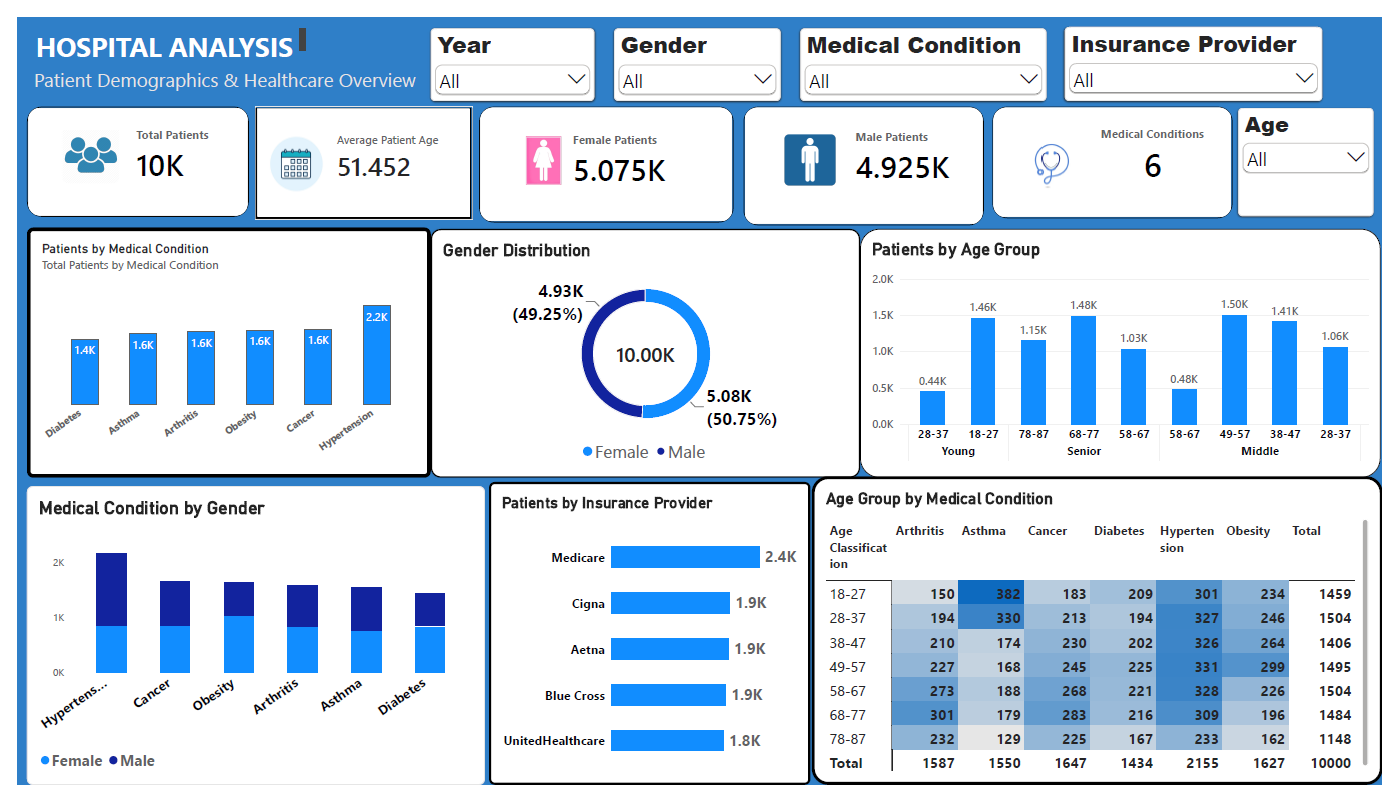

What the dashboard file says about the page in this screenshot:
{"tool":"powerbi","page":{"name":"Hospital Overview & Patient Demographics","canvas":[1920,1080],"ordinal":1},"visuals":[{"type":"textbox","box":[26,16,380,52],"z":0},{"type":"textbox","box":[24,70,605.1,96.7],"z":1000},{"type":"cardVisual","fields":{"Data":["Healthcare_Data_v1__1.Average Patient Age"]},"box":[334.8,126,306,158.8],"z":2000},{"type":"cardVisual","fields":{"Data":["Healthcare_Data_v1__1.Total Patients"]},"box":[14,126,312,154.8],"z":3000},{"type":"cardVisual","fields":{"Data":["Healthcare_Data_v1__1.Female Patients"]},"box":[650,126,358,162.8],"z":4000},{"type":"cardVisual","fields":{"Data":["Healthcare_Data_v1__1.Male Patients"]},"box":[1022,126,338,166.8],"z":5000},{"type":"cardVisual","fields":{"Data":["Healthcare_Data_v1__1.Medical Conditions"]},"box":[1372,126,338,157.2],"z":6000},{"type":"columnChart","title":"Medical Condition by Gender","fields":{"Category":["Healthcare_Data_v1__1.Medical Condition"],"Series":["Healthcare_Data_v1__1.Gender"],"Y":["Healthcare_Data_v1__1.Total Patients"]},"box":[14,660,644,420],"z":7000},{"type":"donutChart","title":"Gender Distribution","fields":{"Category":["Healthcare_Data_v1__1.Gender"],"Y":["Healthcare_Data_v1__1.Total Patients"]},"box":[582,298,604,350],"z":8000},{"type":"clusteredColumnChart","title":"Patients by Age Group","fields":{"Category":["Healthcare_Data_v1__1.Age Group","Healthcare_Data_v1__1.Age Classification"],"Y":["Healthcare_Data_v1__1.Total Patients"]},"box":[1186,298,732,350],"z":9000},{"type":"clusteredColumnChart","title":"Patients by Medical Condition","fields":{"Category":["Healthcare_Data_v1__1.Medical Condition"],"Y":["Healthcare_Data_v1__1.Total Patients"]},"box":[14,296,568,352],"z":10000},{"type":"clusteredBarChart","title":"Patients by Insurance Provider","fields":{"Category":["Healthcare_Data_v1__1.Insurance Provider"],"Y":["Healthcare_Data_v1__1.Total Patients"]},"box":[664,654,452,426],"z":11000},{"type":"pivotTable","title":"Age Group by Medical Condition","fields":{"Columns":["Healthcare_Data_v1__1.Medical Condition"],"Rows":["Healthcare_Data_v1__1.Age Classification"],"Values":["Healthcare_Data_v1__1.Total Patients"]},"box":[1118,646,802.8,434],"z":12000},{"type":"slicer","fields":{"Values":["Healthcare_Data_v1__1.Year"]},"box":[582,16,230,102],"z":13000},{"type":"slicer","fields":{"Values":["Healthcare_Data_v1__1.Gender"]},"box":[840,16,234,102],"z":14000},{"type":"slicer","fields":{"Values":["Healthcare_Data_v1__1.Medical Condition"]},"box":[1102,16,346,102],"z":15000},{"type":"slicer","fields":{"Values":["Healthcare_Data_v1__1.Insurance Provider"]},"box":[1474,14,362,104],"z":16000},{"type":"slicer","fields":{"Values":["Healthcare_Data_v1__1.Age Classification"]},"box":[1718,128,190,152],"z":17000}]}

Visuals, with their boxes in screenshot pixels (x1, y1, x2, y2), scaled from the page's 1920x1080 canvas onto the 1390x799 screenshot:
textbox: BBox(19, 12, 294, 50)
textbox: BBox(17, 52, 455, 123)
cardVisual - Healthcare_Data_v1__1.Average Patient Age: BBox(242, 93, 464, 211)
cardVisual - Healthcare_Data_v1__1.Total Patients: BBox(10, 93, 236, 208)
cardVisual - Healthcare_Data_v1__1.Female Patients: BBox(471, 93, 730, 214)
cardVisual - Healthcare_Data_v1__1.Male Patients: BBox(740, 93, 985, 217)
cardVisual - Healthcare_Data_v1__1.Medical Conditions: BBox(993, 93, 1238, 210)
"Medical Condition by Gender" columnChart: BBox(10, 488, 476, 798)
"Gender Distribution" donutChart: BBox(421, 220, 859, 479)
"Patients by Age Group" clusteredColumnChart: BBox(859, 220, 1389, 479)
"Patients by Medical Condition" clusteredColumnChart: BBox(10, 219, 421, 479)
"Patients by Insurance Provider" clusteredBarChart: BBox(481, 484, 808, 798)
"Age Group by Medical Condition" pivotTable: BBox(809, 478, 1389, 798)
slicer - Healthcare_Data_v1__1.Year: BBox(421, 12, 588, 87)
slicer - Healthcare_Data_v1__1.Gender: BBox(608, 12, 778, 87)
slicer - Healthcare_Data_v1__1.Medical Condition: BBox(798, 12, 1048, 87)
slicer - Healthcare_Data_v1__1.Insurance Provider: BBox(1067, 10, 1329, 87)
slicer - Healthcare_Data_v1__1.Age Classification: BBox(1244, 95, 1381, 207)
